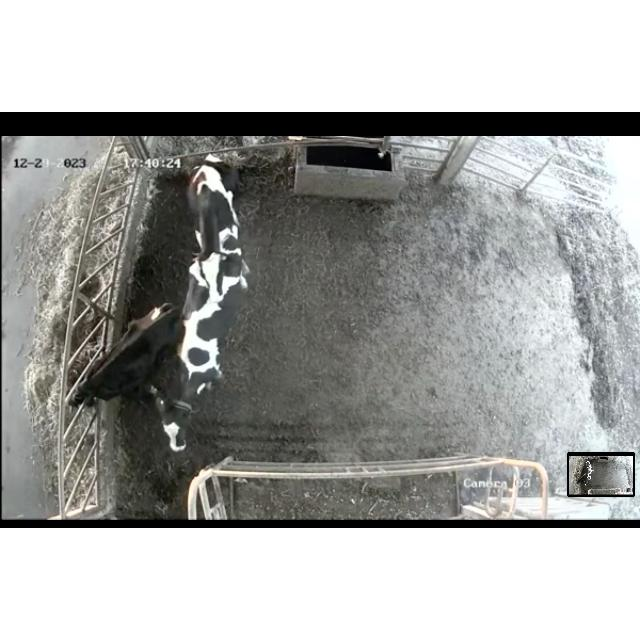propping: (174, 232, 252, 306)
